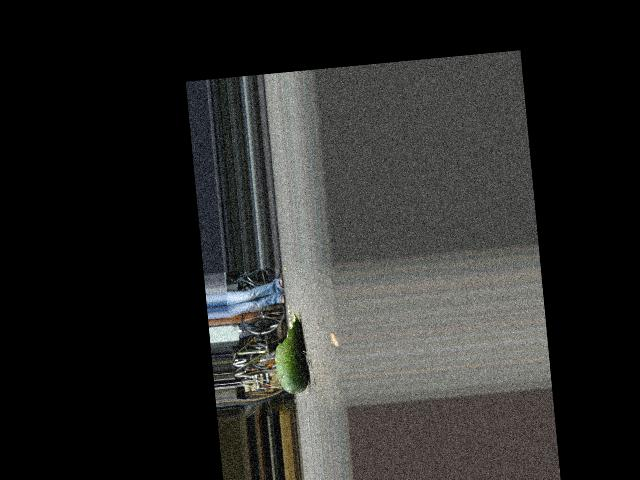cucumber: (271, 311, 309, 395)
